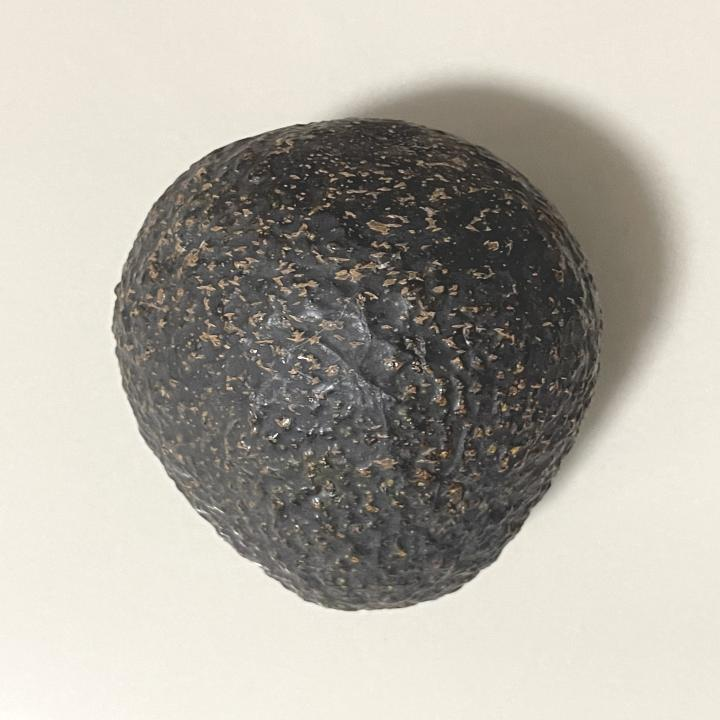Level2: (98, 109, 615, 620)
